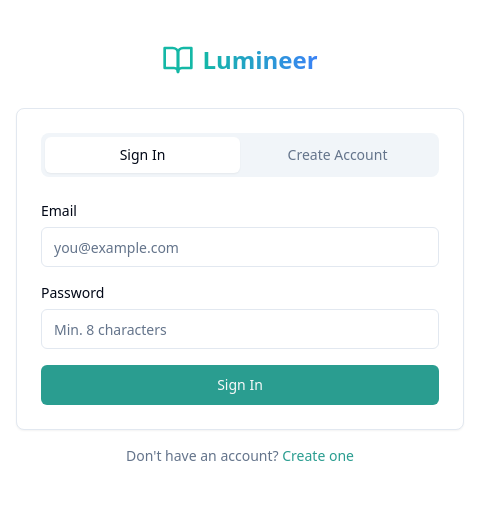
LoginPage › displays error message on login failure
This screenshot has width=481, height=508.
Type "bad@example.com" into the field labelled "Email" at (240, 247), box [41,227,439,267]
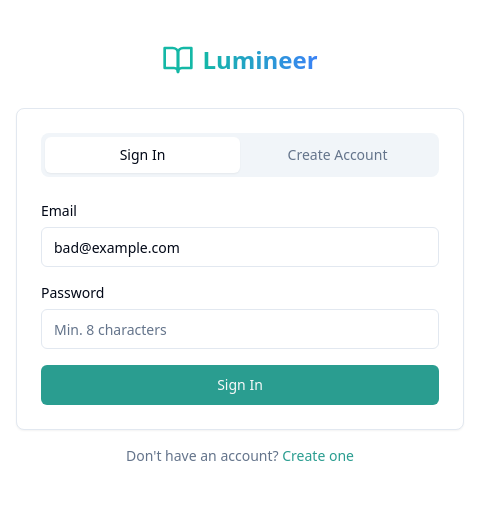
Type "wrong" into the password field labelled "Password" at (240, 329), box [41,309,439,349]
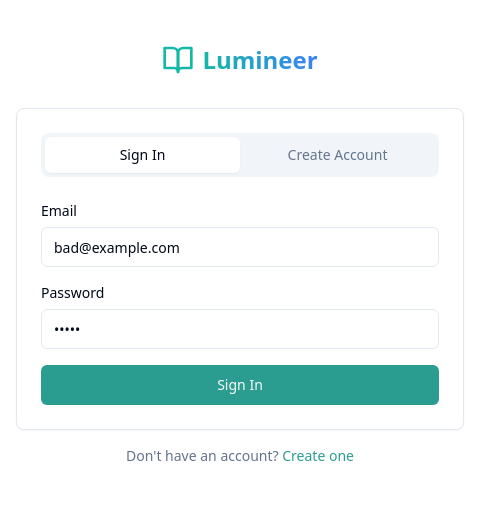
Click the button "Sign In" below "Password" at (240, 385), box [41,365,439,405]
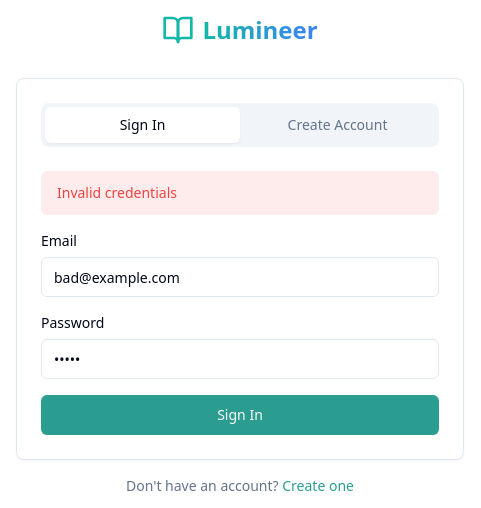
Result: the text "Invalid credentials" is shown at [41,171,439,215]
